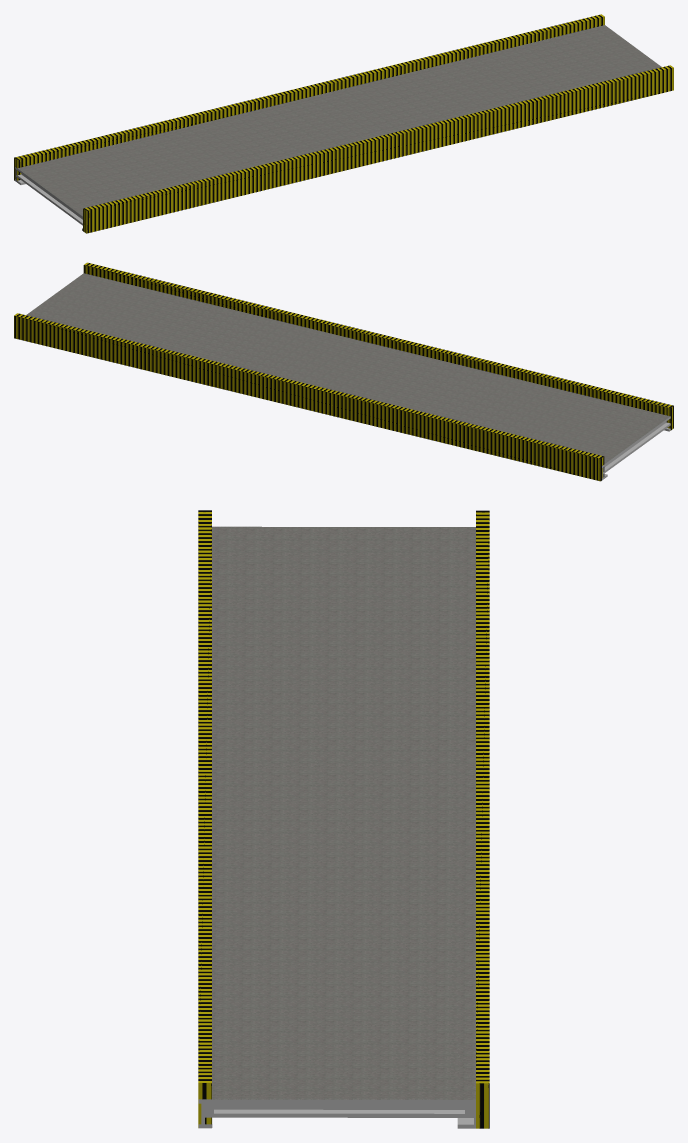
Rendered from balanca.glb.
The picture shows the model from 3 angles, top to bottom: view 1: azimuth 30°, elevation 25°; view 2: azimuth 150°, elevation 25°; view 3: azimuth 270°, elevation 25°; orthographic projection. The views are drawn at different scales.
Parts seen in each view (by area): view 1: Balan_a1, Componente_8_2, Componente_8_1; view 2: Balan_a1, Componente_8_1, Componente_8_2; view 3: Balan_a1, Componente_8_1, Componente_8_2.
Boxes of the visible parts, box(x1,y1,x2,y2) form: Balan_a1: box(15, 25, 661, 230); Componente_8_2: box(83, 65, 673, 233); Componente_8_1: box(14, 14, 604, 180); Balan_a1: box(26, 273, 670, 480); Componente_8_1: box(14, 313, 604, 481); Componente_8_2: box(83, 262, 673, 430); Balan_a1: box(198, 526, 475, 1128); Componente_8_1: box(476, 510, 489, 1128); Componente_8_2: box(198, 510, 211, 1127).
Bounding box in the file's own units: 14.91 × 0.55 × 3.2.
3 materials, 2 textured.
